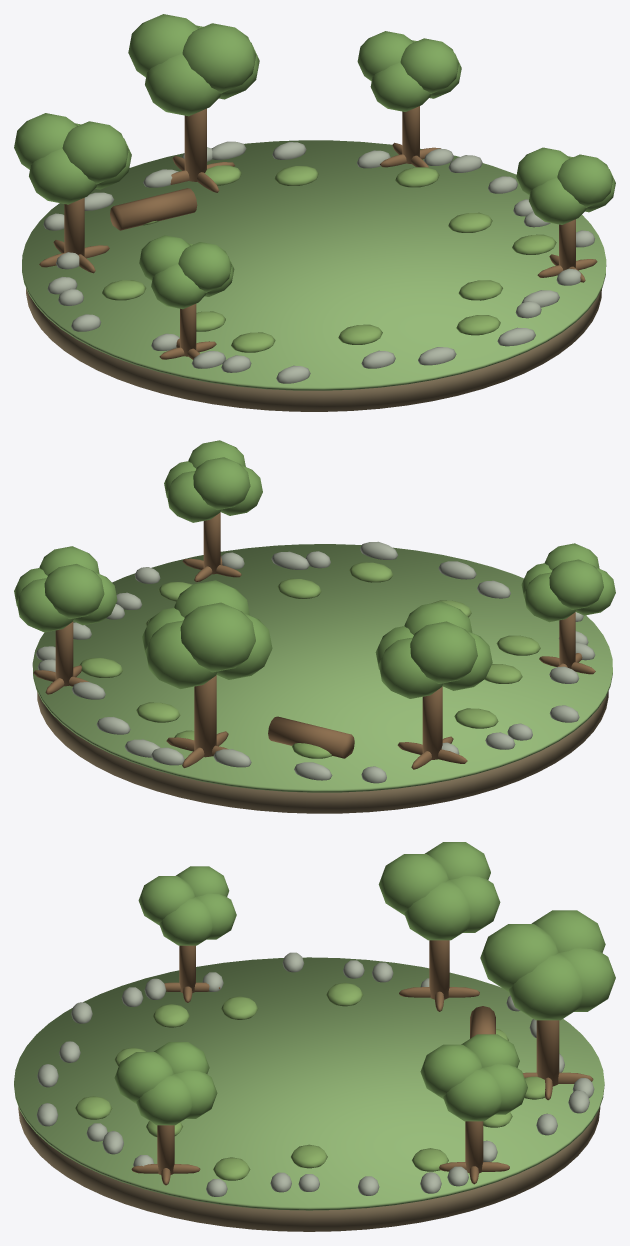
File: habitat-grove.glb
3 views of the same model, one above another, from view 1: azimuth 30°, elevation 25°; view 2: azimuth 150°, elevation 25°; view 3: azimuth 270°, elevation 25° (orthographic).
Visible parts, largest first — view 1: Walkable moss meadow, habitat-grove_leaf, Layered island soil, habitat-grove_rock, habitat-grove_bark, habitat-grove_moss; view 2: Walkable moss meadow, habitat-grove_leaf, Layered island soil, habitat-grove_bark, habitat-grove_rock, habitat-grove_moss; view 3: Walkable moss meadow, habitat-grove_leaf, Layered island soil, habitat-grove_bark, habitat-grove_rock, habitat-grove_moss.
Part boxes in pixels (x1,y1,x2,y2): Walkable moss meadow: (22,140,606,390); habitat-grove_leaf: (14,14,615,309); Layered island soil: (26,288,601,411); habitat-grove_rock: (43,141,594,383); habitat-grove_bark: (39,106,597,359); habitat-grove_moss: (102,165,556,352); Walkable moss meadow: (32,544,612,792); habitat-grove_leaf: (14,440,615,698); Layered island soil: (37,691,608,813); habitat-grove_bark: (33,512,595,769); habitat-grove_rock: (36,541,595,783); habitat-grove_moss: (79,562,540,758); Walkable moss meadow: (14,957,604,1210); habitat-grove_leaf: (114,842,615,1125); Layered island soil: (18,1107,600,1231); habitat-grove_bark: (131,940,593,1185); habitat-grove_rock: (36,952,594,1196); habitat-grove_moss: (75,982,545,1180).
Size of the model in its own units: 13.6 by 4.73 by 13.86.
